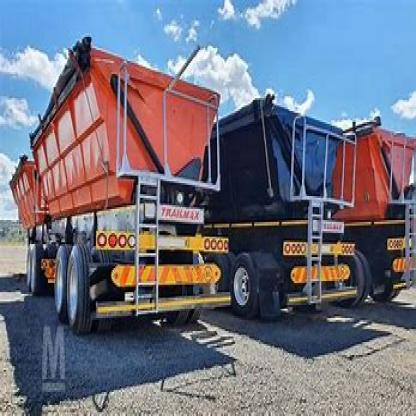dump_truck: (11, 39, 223, 333), (240, 70, 363, 355), (361, 92, 415, 352)
